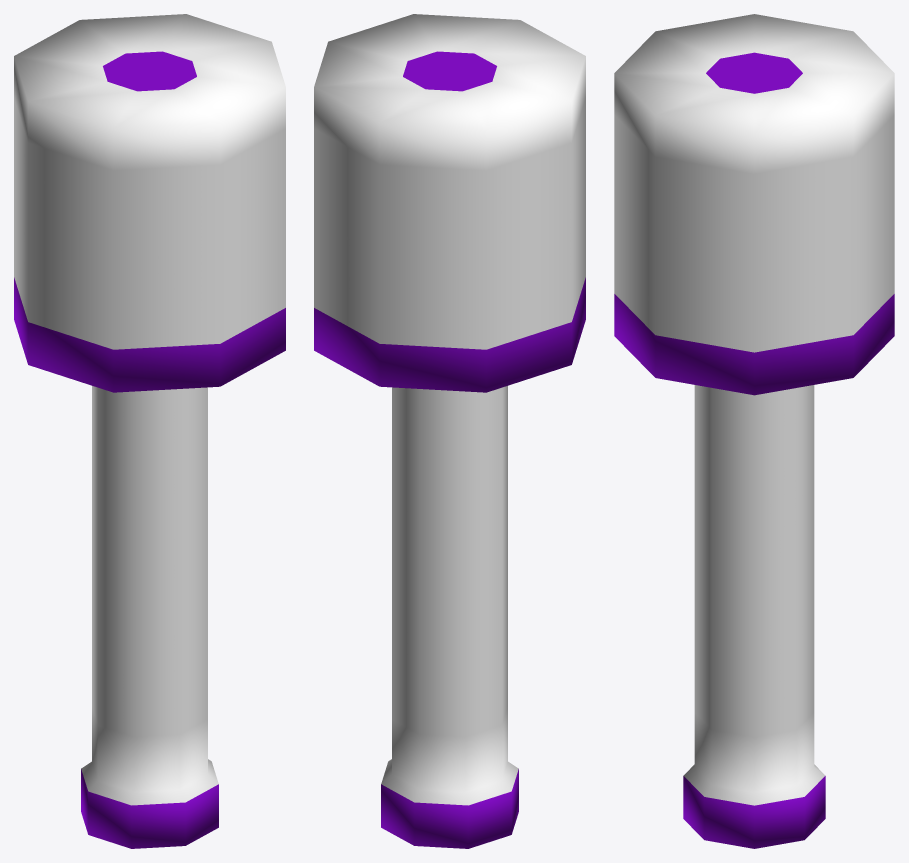
File: Grenade.fbx
3 renders of one model, left to right at view 1: azimuth 30°, elevation 25°; view 2: azimuth 150°, elevation 25°; view 3: azimuth 270°, elevation 25°, orthographic.
Visible parts, largest first — view 1: Grenade; view 2: Grenade; view 3: Grenade.
Boxes of the visible parts, x1,y1,x2,y2 form: Grenade: (14,14,285,848); Grenade: (314,14,585,848); Grenade: (614,14,894,848).
Bounding box in the file's own units: 24.86 × 72.94 × 24.86.
1 material, 1 textured.
